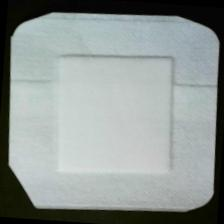Cut: (1, 3, 224, 221)
